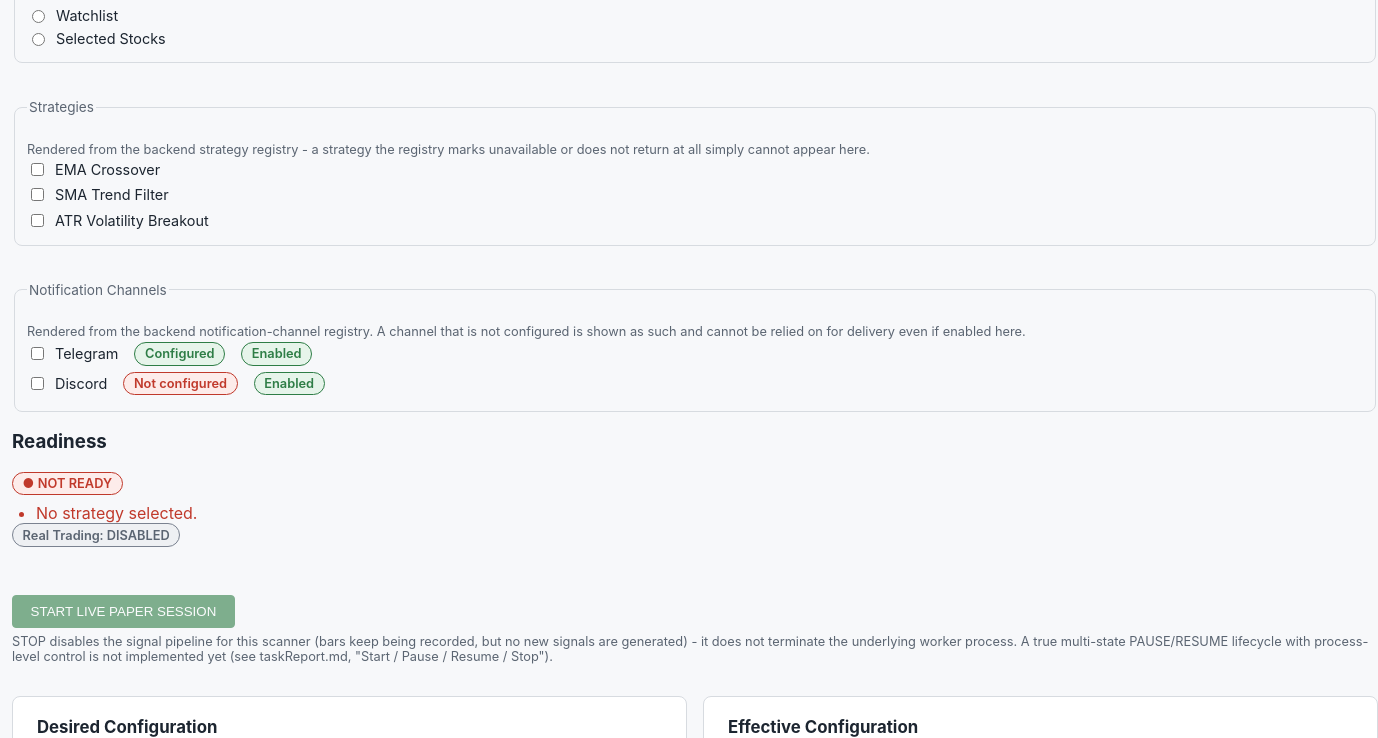
Test case: LiveScannerConsole - Checkpoint 64.93 › selecting an unconfigured notification channel is an explicit NOT READY reason
(page scrolled)
Click the checkbox labelled "Discord Not configured Enabled" at [38, 384], box [31,377,44,390]
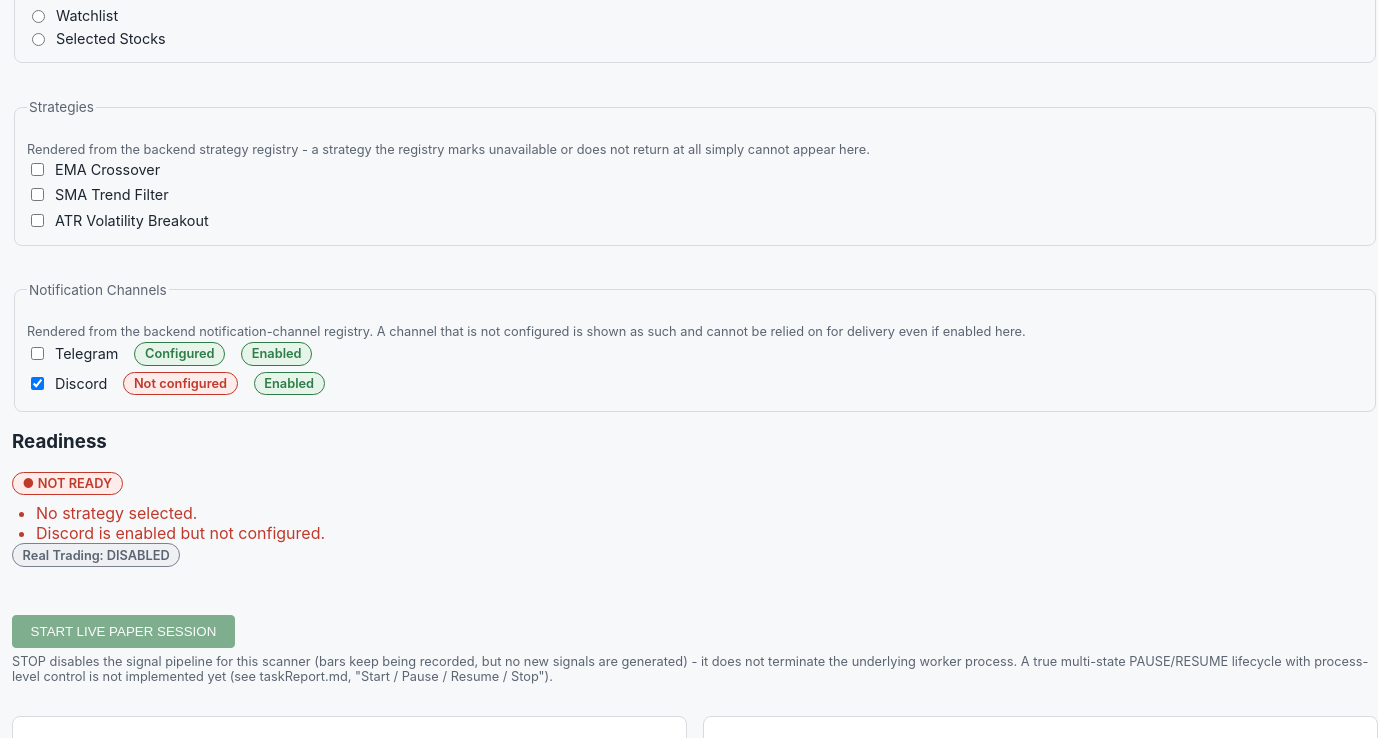
Now the list item "Discord is enabled but not configured." is shown, box [36,523,325,543]
